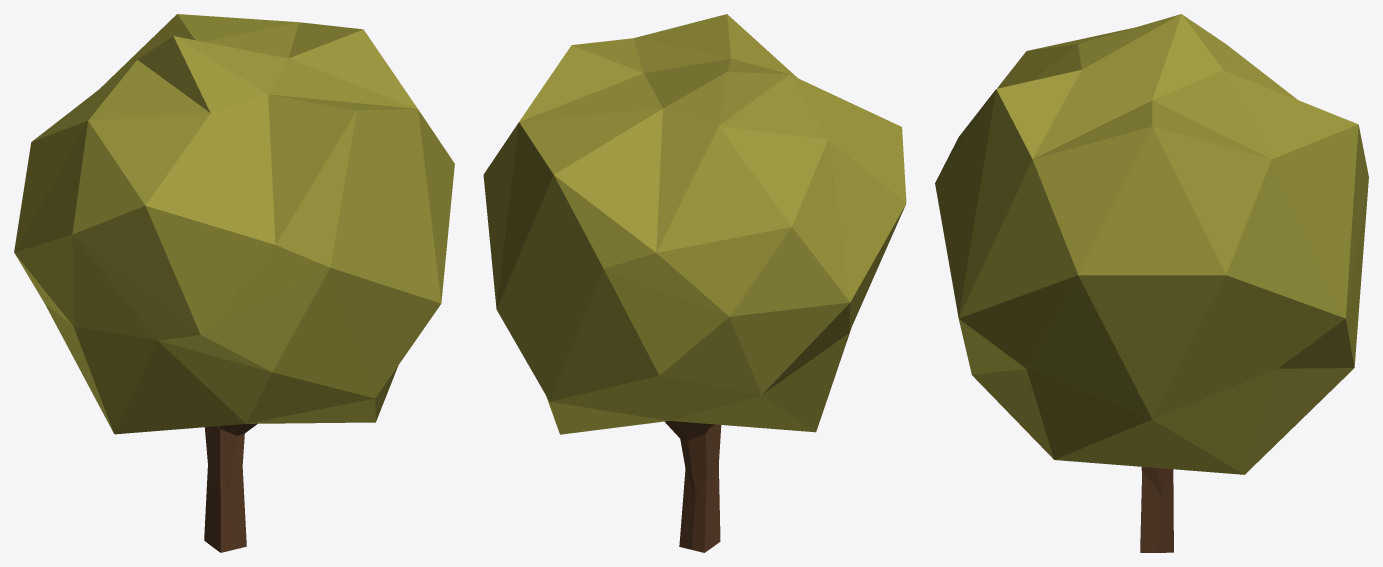
The model's file is Tree_12_Yellow.fbx.
The picture shows the model from 3 angles, left to right: view 1: azimuth 30°, elevation 25°; view 2: azimuth 150°, elevation 25°; view 3: azimuth 270°, elevation 25°; orthographic projection. The views are drawn at different scales.
Parts seen in each view (by area): view 1: Tree_12_Yellow_Part_1, Tree_12_Yellow_Part_2; view 2: Tree_12_Yellow_Part_1, Tree_12_Yellow_Part_2; view 3: Tree_12_Yellow_Part_1, Tree_12_Yellow_Part_2.
Part boxes in pixels (<box>): Tree_12_Yellow_Part_1: <box>14,14,454,434</box>; Tree_12_Yellow_Part_2: <box>204,423,257,552</box>; Tree_12_Yellow_Part_1: <box>483,14,906,434</box>; Tree_12_Yellow_Part_2: <box>664,421,721,552</box>; Tree_12_Yellow_Part_1: <box>935,14,1368,474</box>; Tree_12_Yellow_Part_2: <box>1140,467,1173,552</box>.
Size of the model in its own units: 583 by 758 by 582.
